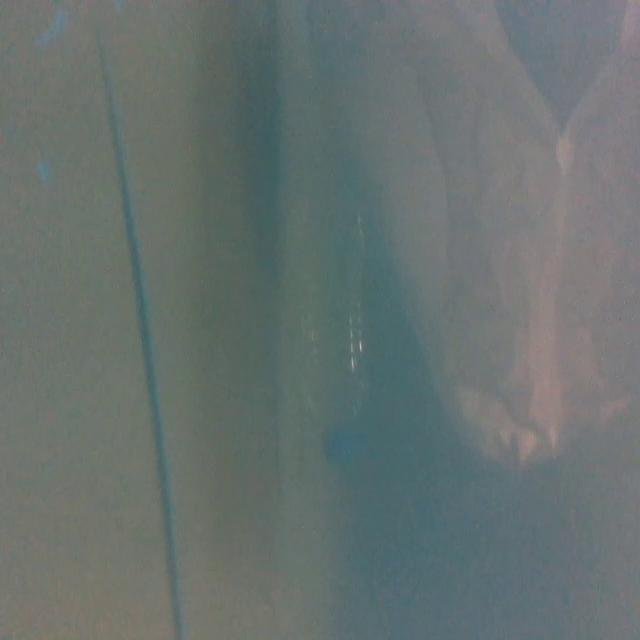plastic bags: (350, 2, 640, 473)
plastic bottle: (274, 172, 387, 466)
